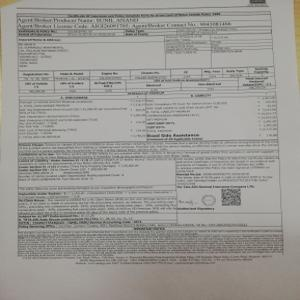table: (16, 10, 275, 92), (18, 94, 278, 139)
text: (17, 228, 286, 266)
